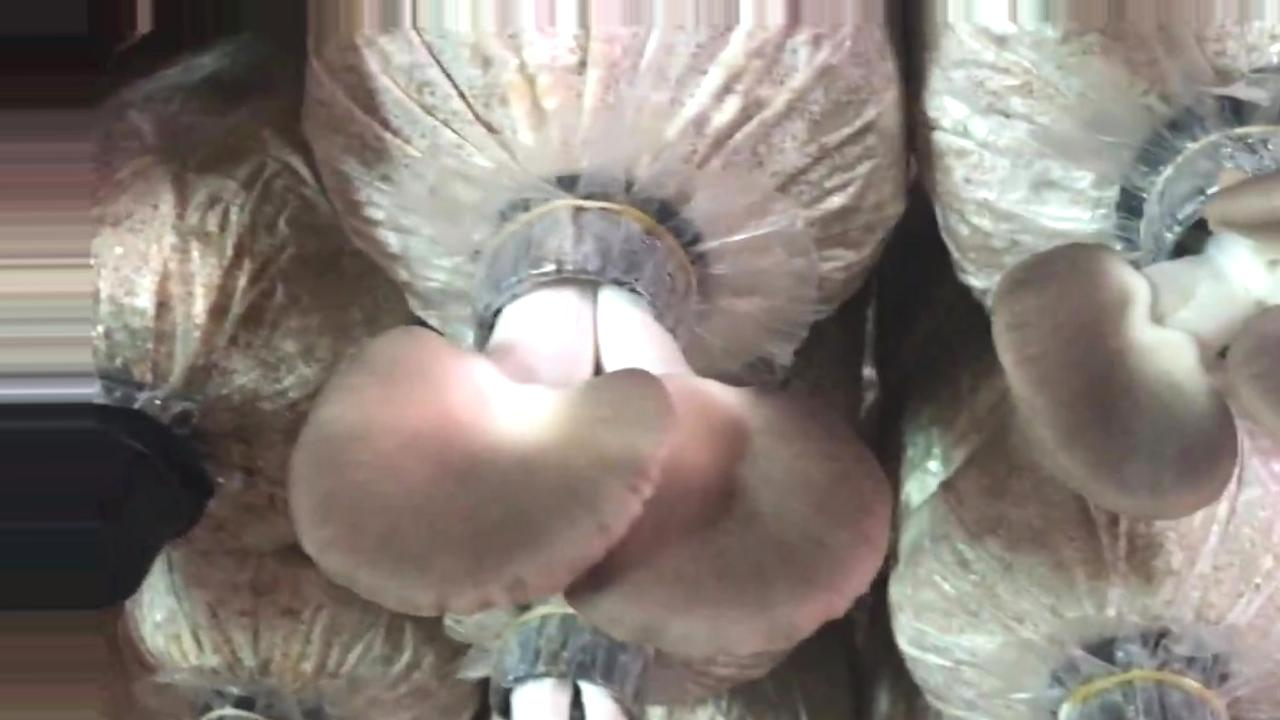nam: (285, 174, 900, 673), (989, 123, 1280, 520)
